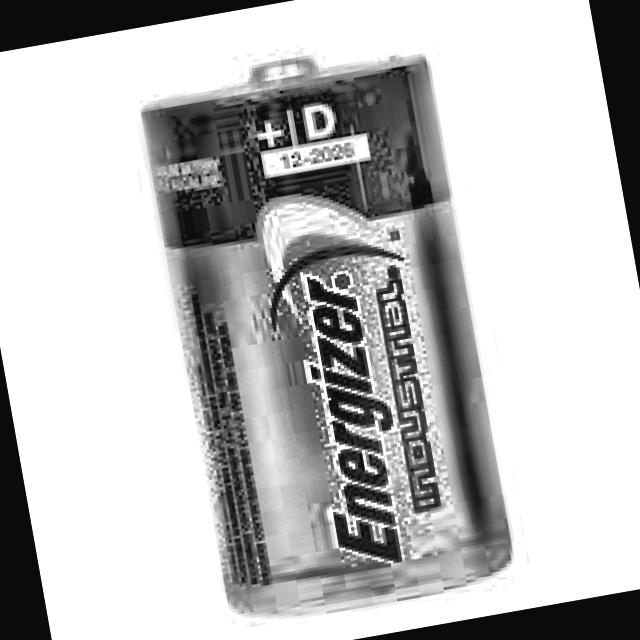Battery: (138, 35, 516, 618)
